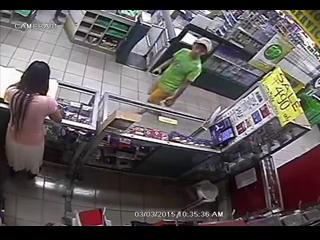Normal: (4, 60, 64, 180), (146, 37, 213, 108)
